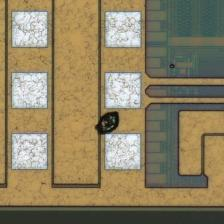PO CONTAMINATION: (94, 64, 177, 138)
